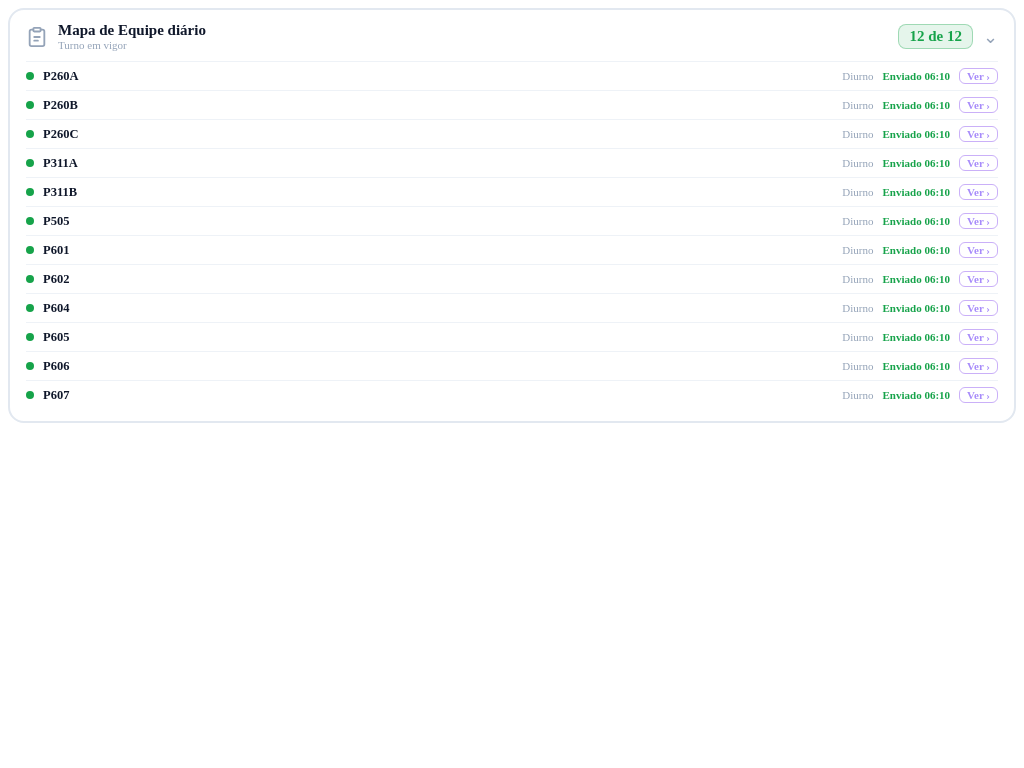
cada projeto com plantão em vigor tem o botão Ver que abre a cascata dos mapas
Click the button "P260A Diurno Enviado 06:10 Ver ›" at (61, 76), box x1=26 y1=68 x2=998 y2=84
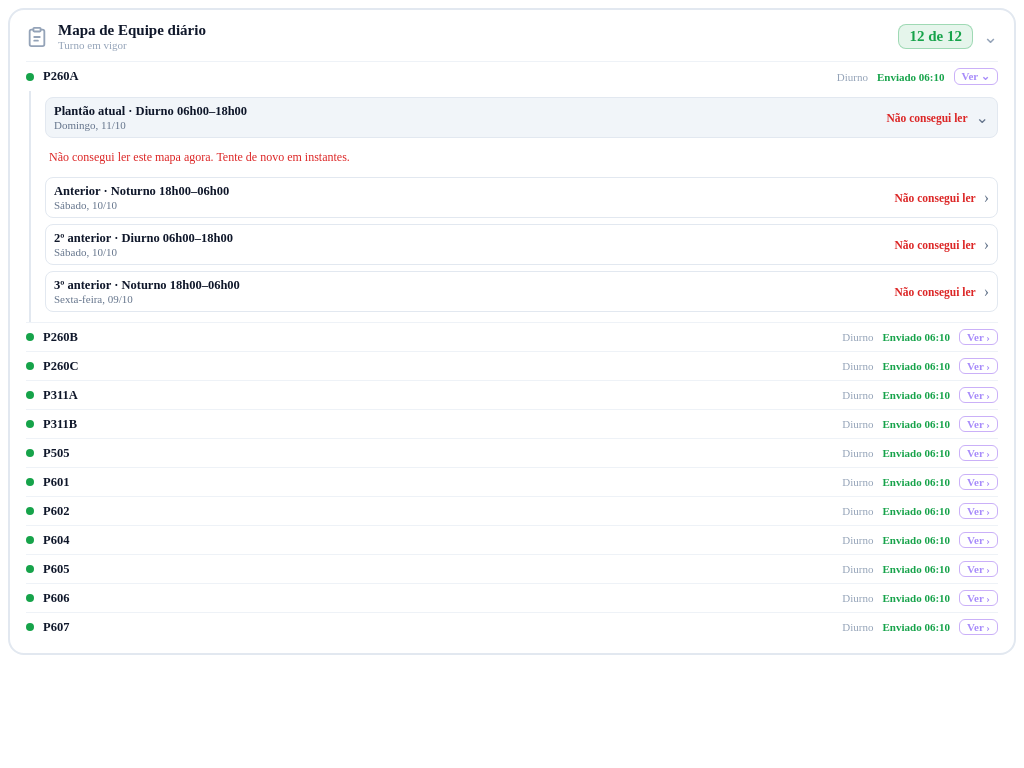
Expected: the element with test id "ver-mapas" is shown, x1=29 y1=91 x2=998 y2=322
Click the button "P260A Diurno Enviado 06:10 Ver ⌄" at (61, 76), box x1=26 y1=68 x2=998 y2=85
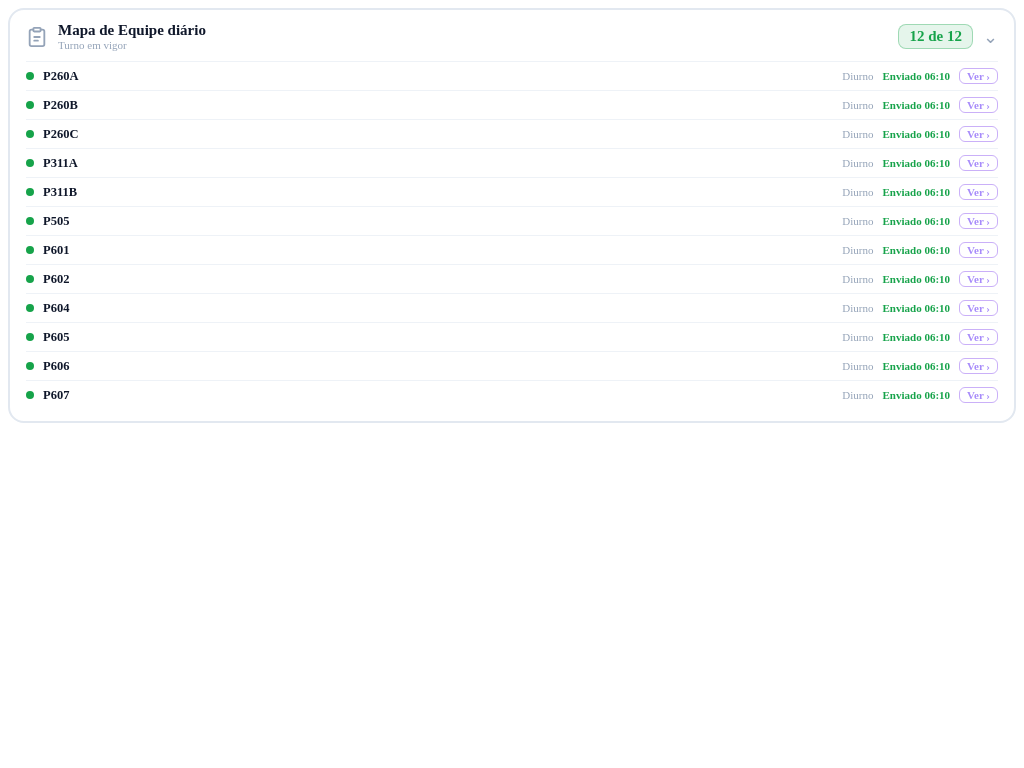
Expected: the element with test id "ver-mapas" is gone
